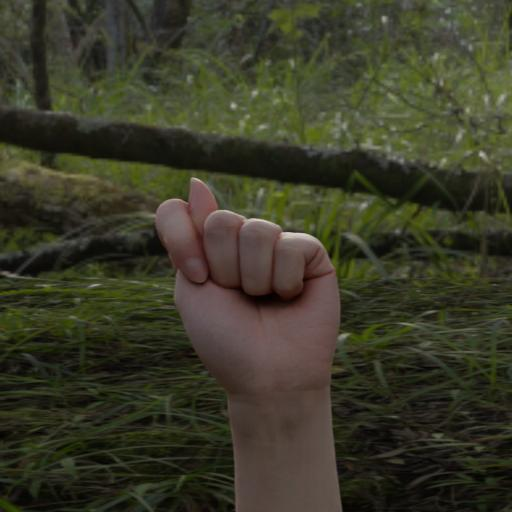T: (148, 172, 356, 408)
